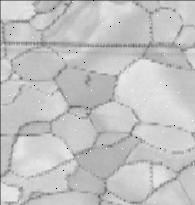good_void: (84, 74, 93, 87)
